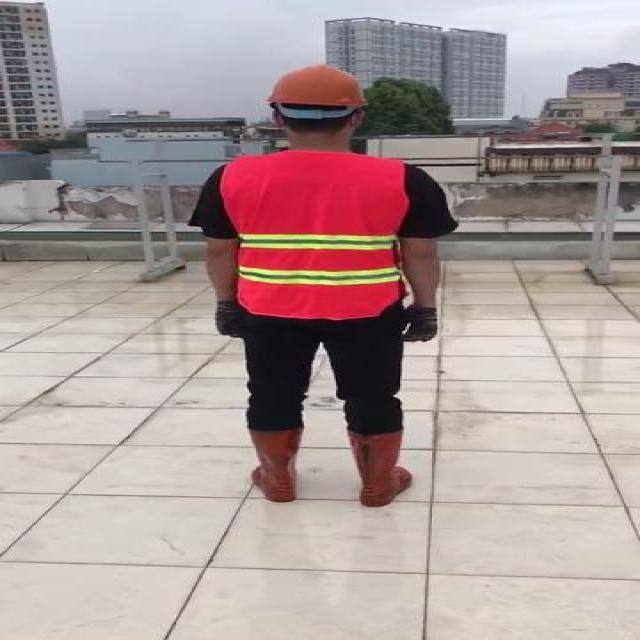boots: (343, 427, 414, 506), (240, 428, 306, 501)
hand_glove: (211, 303, 249, 340), (402, 304, 437, 343)
head_helmet: (260, 61, 370, 110)
person: (192, 65, 457, 511)
vest: (220, 151, 410, 319)
